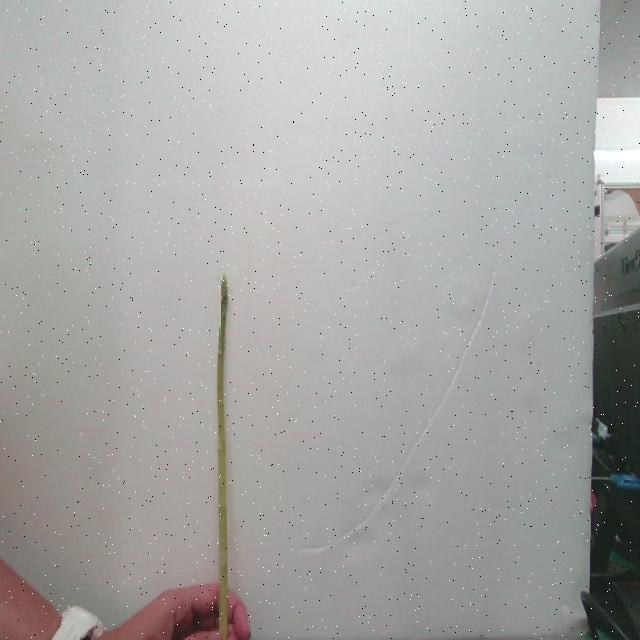aspargus: (216, 277, 233, 640)
